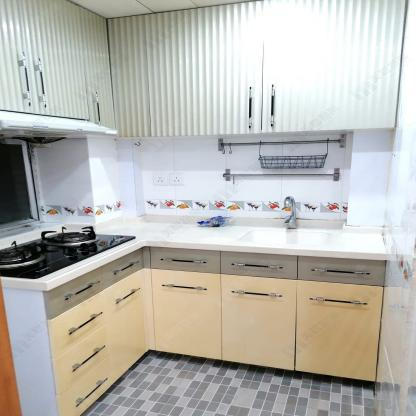Cupboard: (42, 246, 391, 414)
Exhaust Hood: (0, 108, 119, 143), (0, 110, 118, 140)
Faucet: (280, 194, 301, 230)
Sink: (218, 224, 339, 257), (239, 228, 340, 246)
Stove: (0, 223, 138, 282), (0, 225, 134, 279)
